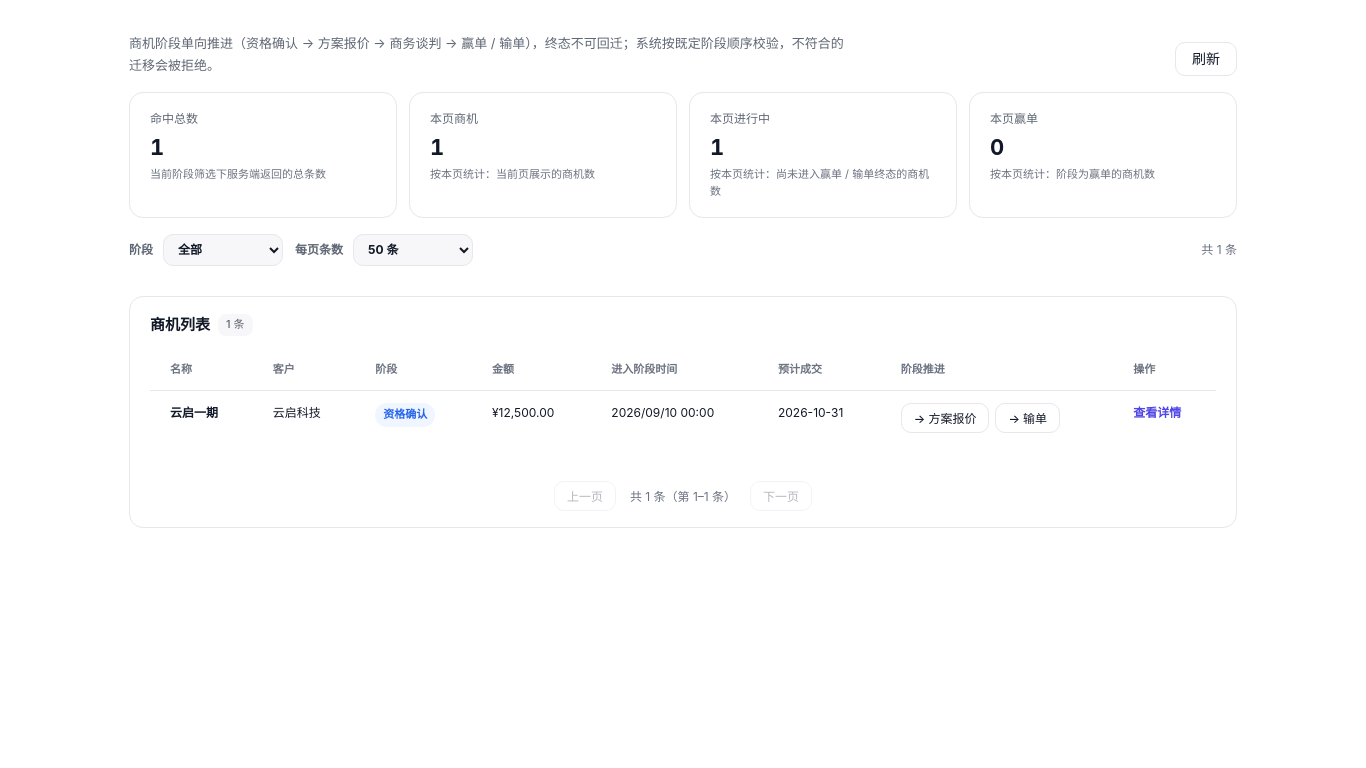
Test case: CrmOpportunitiesPage › renders an empty timeline and tolerates missing fields without crashing
The image size is (1366, 768).
Click the text "云启一期".
click(194, 413)  # box [170,406,218,420]
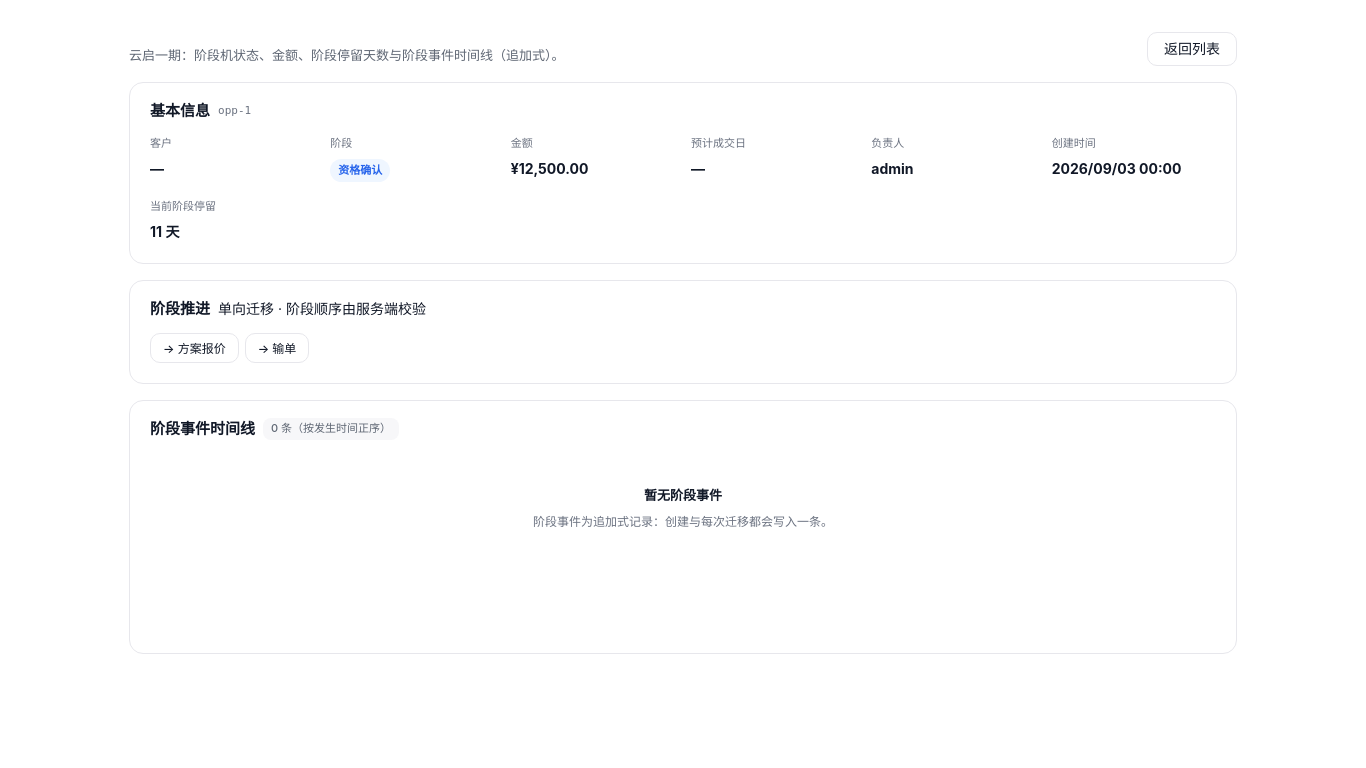
expect the text "暂无阶段事件" is shown: met, box [644,485,722,506]
expect the text "—" below "客户" is shown: met, box [150,160,164,177]
expect the text "0 条（按发生时间正序）" is shown: met, box [263,418,399,440]
